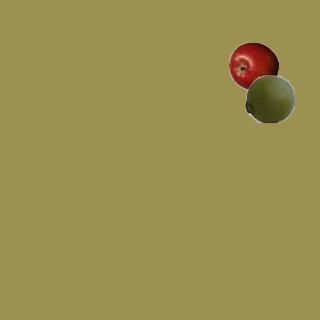Apple Braeburn: (228, 41, 278, 91)
Grape White 4: (244, 73, 294, 123)
